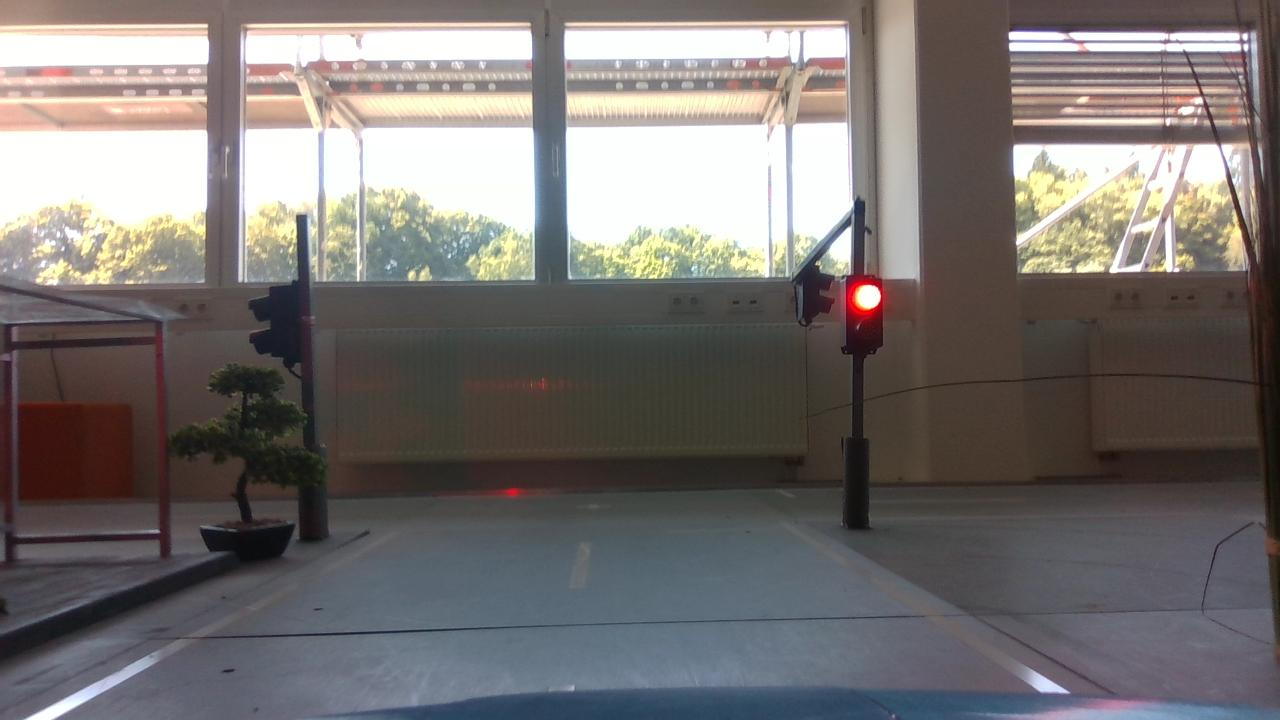traffic_light_red: (833, 262, 898, 362)
